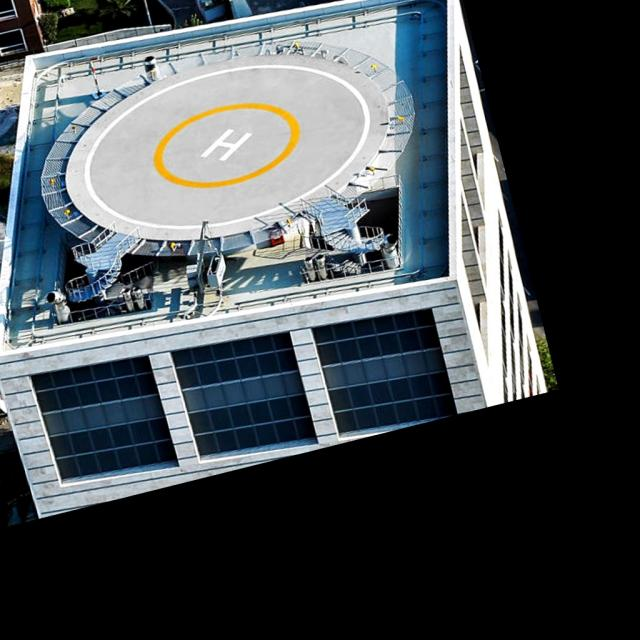helipad: (150, 100, 302, 190)
